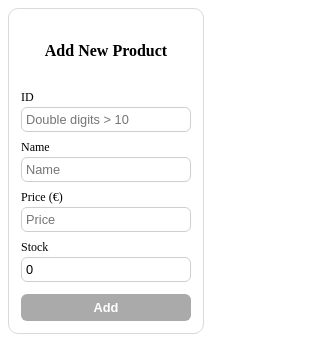
Test case: AddProductCard › should disable add button if product is invalid
Expected: the button "Add" is disabled, [21,294,191,320]
Step 1. Type "12" into the field with placeholder "Double digits > 10" → (106, 119), box [21,106,191,132]
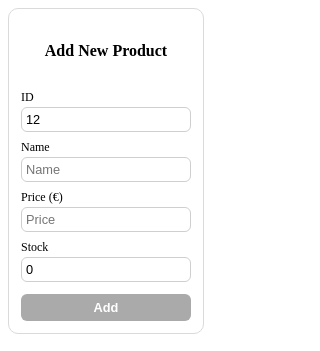
Step 2. Type "Cola" into the field with placeholder "Name" → (106, 169), box [21,156,191,182]
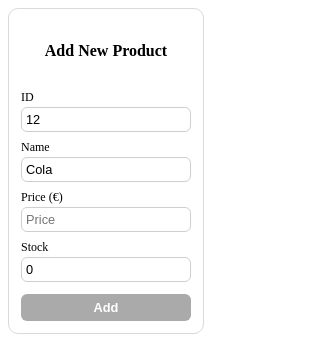
Step 3. Type "1.5" into the number field with placeholder "Price" → (106, 219), box [21,206,191,232]
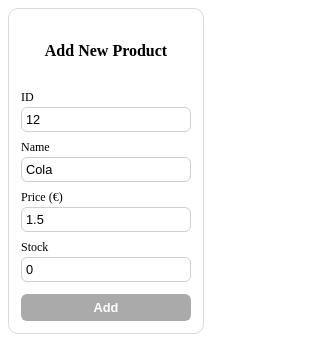
Step 4. Replace the text in the number field with placeholder "Stock" with "10" → (106, 269), box [21,256,191,282]
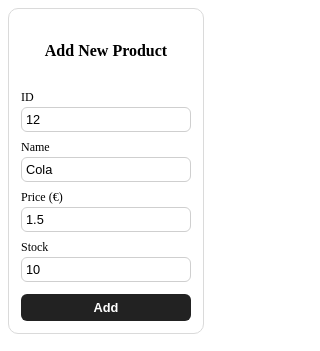
Result: the button "Add" is enabled at [21,294,191,320]
